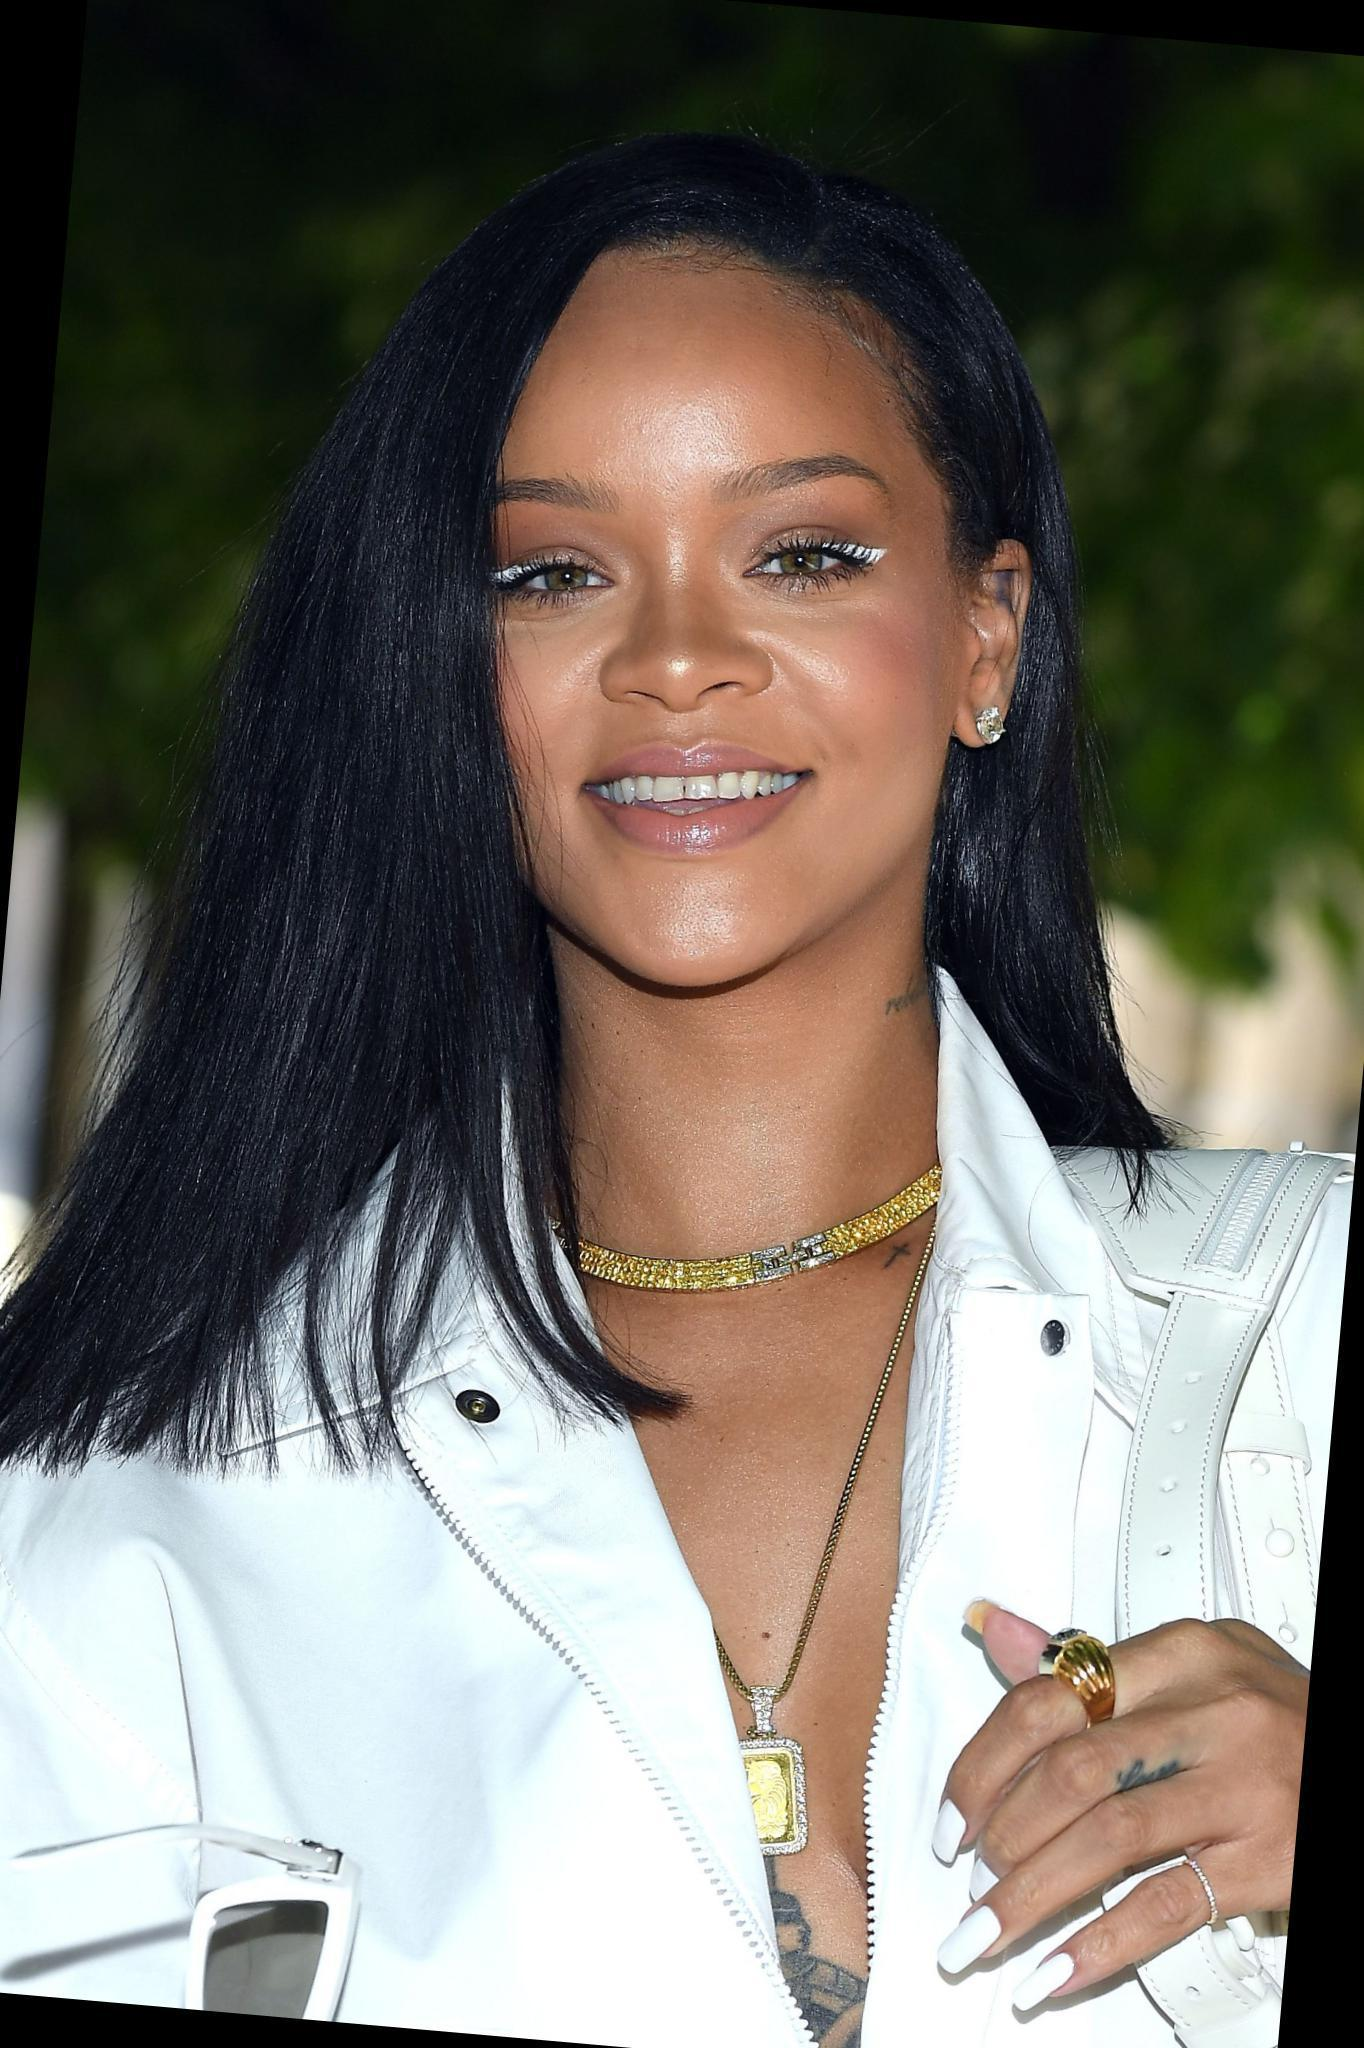Sober: (492, 266, 942, 957)
